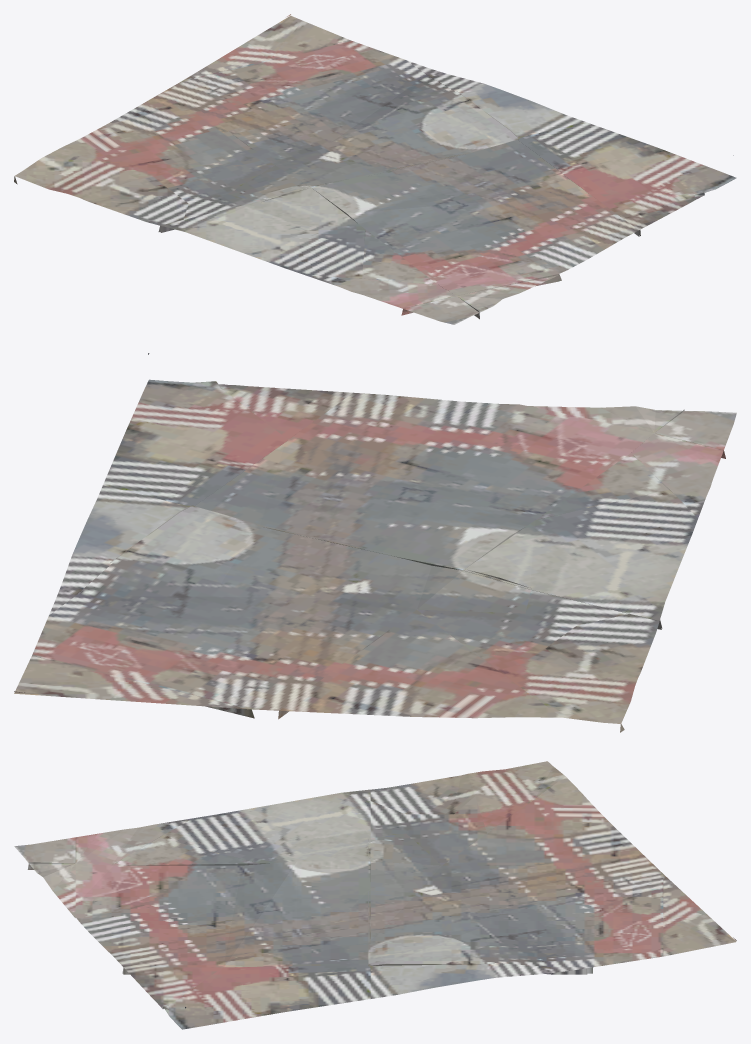
3 renders of one model, top to bottom at view 1: azimuth 30°, elevation 25°; view 2: azimuth 150°, elevation 25°; view 3: azimuth 270°, elevation 25°, orthographic. The views are drawn at different scales.
Visible parts, largest first — view 1: BuildingMesh-00044.001, BuildingMesh-00028.001, BuildingMesh-00032.001, BuildingMesh-00045.001; view 2: BuildingMesh-00044.001, BuildingMesh-00028.001, BuildingMesh-00032.001, BuildingMesh-00045.001; view 3: BuildingMesh-00044.001, BuildingMesh-00028.001, BuildingMesh-00032.001, BuildingMesh-00045.001.
Boxes of the visible parts, <box> form: BuildingMesh-00044.001: <box>14,14,518,232</box>; BuildingMesh-00028.001: <box>158,139,640,324</box>; BuildingMesh-00032.001: <box>518,122,736,236</box>; BuildingMesh-00045.001: <box>407,60,584,139</box>; BuildingMesh-00044.001: <box>14,505,662,732</box>; BuildingMesh-00028.001: <box>195,392,736,629</box>; BuildingMesh-00032.001: <box>103,353,352,505</box>; BuildingMesh-00045.001: <box>49,485,194,614</box>; BuildingMesh-00044.001: <box>368,761,736,974</box>; BuildingMesh-00028.001: <box>14,789,370,974</box>; BuildingMesh-00032.001: <box>122,965,370,1029</box>; BuildingMesh-00045.001: <box>369,963,592,998</box>.
Size of the model in its own units: 1.04 by 0.0562 by 1.19.
5 materials, 5 textured.
